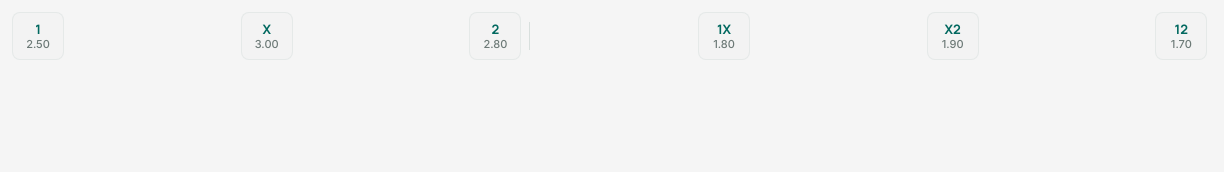
it: BetSelector › disables all buttons while saving
The width and height of the screenshot is (1224, 172).
Click the radio button labelled "1 2.50". click: click(38, 36)
box: 12,12 -> 64,60
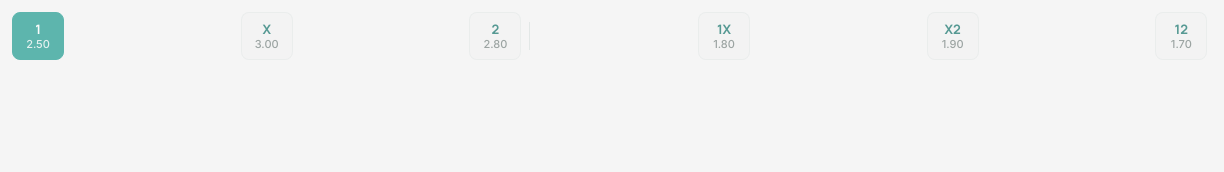
Check: the radio button labelled "1 2.50" is disabled, box 12,12 -> 64,60
Check: the radio button labelled "X 3.00" is disabled, box 241,12 -> 293,60
Check: the radio button labelled "2 2.80" is disabled, box 469,12 -> 521,60
